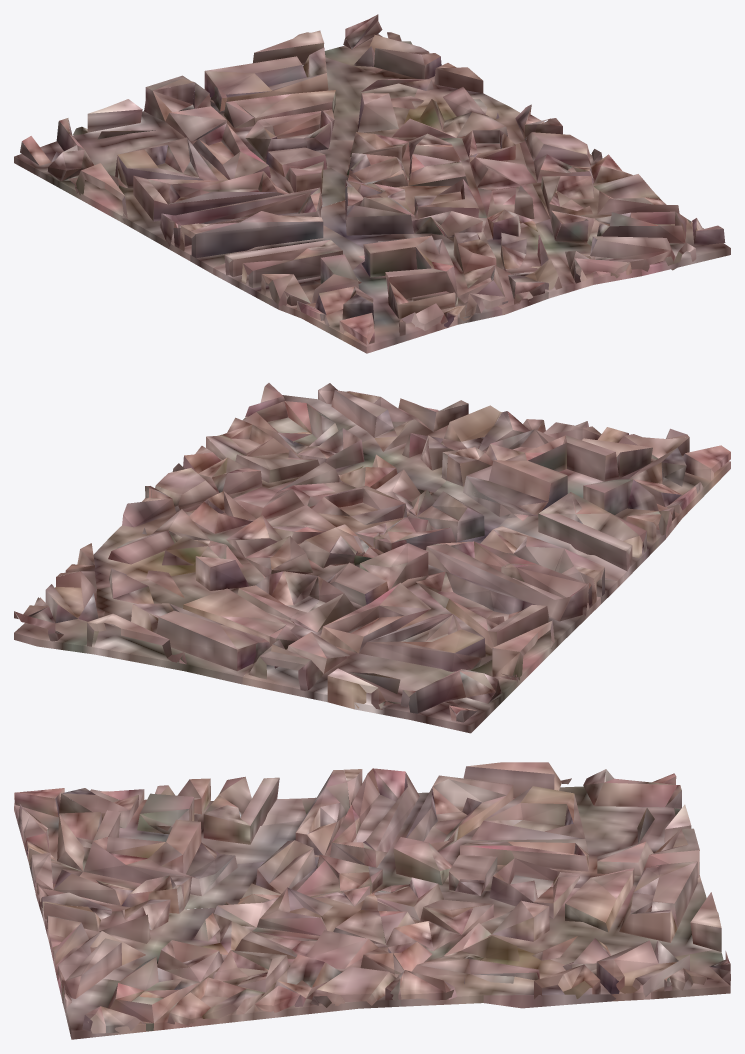
The picture shows the model from 3 angles, top to bottom: view 1: azimuth 30°, elevation 25°; view 2: azimuth 150°, elevation 25°; view 3: azimuth 270°, elevation 25°; orthographic projection. The views are drawn at different scales.
Visible parts, largest first — view 1: Mesh_0; view 2: Mesh_0; view 3: Mesh_0.
Part boxes in pixels (x1,y1,x2,y2): Mesh_0: (14, 14, 730, 353); Mesh_0: (14, 383, 730, 733); Mesh_0: (14, 762, 730, 1039).
Size of the model in its own units: 532 by 51.91 by 659.
2 materials, 2 textured.
